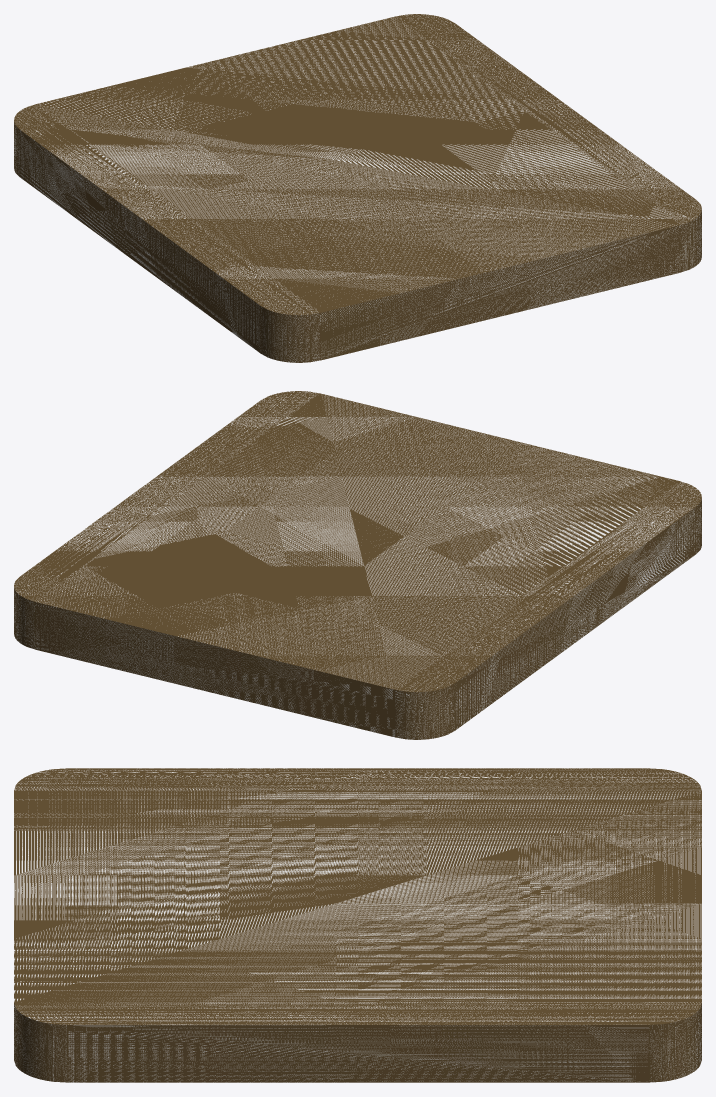
File: original-74.obj
3 views of the same model, one above another, from view 1: azimuth 30°, elevation 25°; view 2: azimuth 150°, elevation 25°; view 3: azimuth 270°, elevation 25° (orthographic). The views are drawn at different scales.
Parts seen in each view (by area): view 1: mesh73/mesh73-geometry#mesh73-geometry; view 2: mesh73/mesh73-geometry#mesh73-geometry; view 3: mesh73/mesh73-geometry#mesh73-geometry.
Boxes of the visible parts, <box> form: mesh73/mesh73-geometry#mesh73-geometry: <box>14,14,701,362</box>; mesh73/mesh73-geometry#mesh73-geometry: <box>14,391,701,739</box>; mesh73/mesh73-geometry#mesh73-geometry: <box>14,768,701,1082</box>.
Size of the model in its own units: 0.1057 by 0.0111 by 0.1198.
